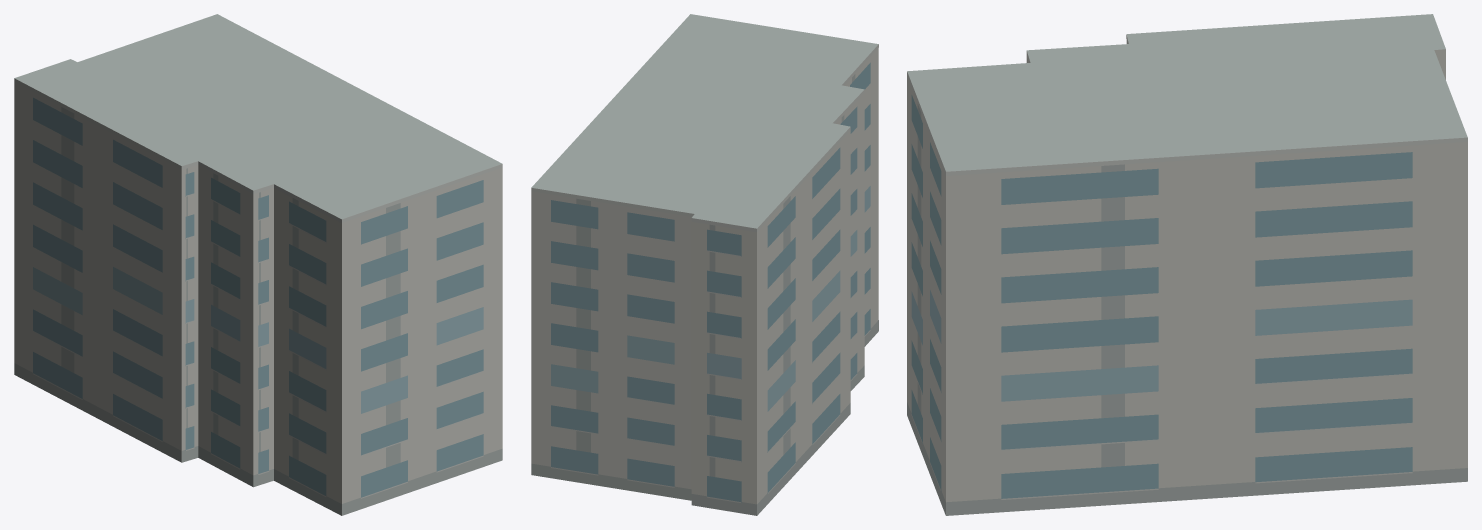
Rendered from survey-upis-32527423.glb.
3 renders of one model, left to right at view 1: azimuth 30°, elevation 25°; view 2: azimuth 150°, elevation 25°; view 3: azimuth 270°, elevation 25°, orthographic. The views are drawn at different scales.
Parts seen in each view (by area): view 1: survey-upis-32527423.tmp; view 2: survey-upis-32527423.tmp; view 3: survey-upis-32527423.tmp.
Boxes of the visible parts, x1,y1,x2,y2 form: survey-upis-32527423.tmp: (14,14,502,515); survey-upis-32527423.tmp: (531,14,878,515); survey-upis-32527423.tmp: (907,14,1467,515).
Bounding box in the file's own units: 18.7 × 19.01 × 28.08.
